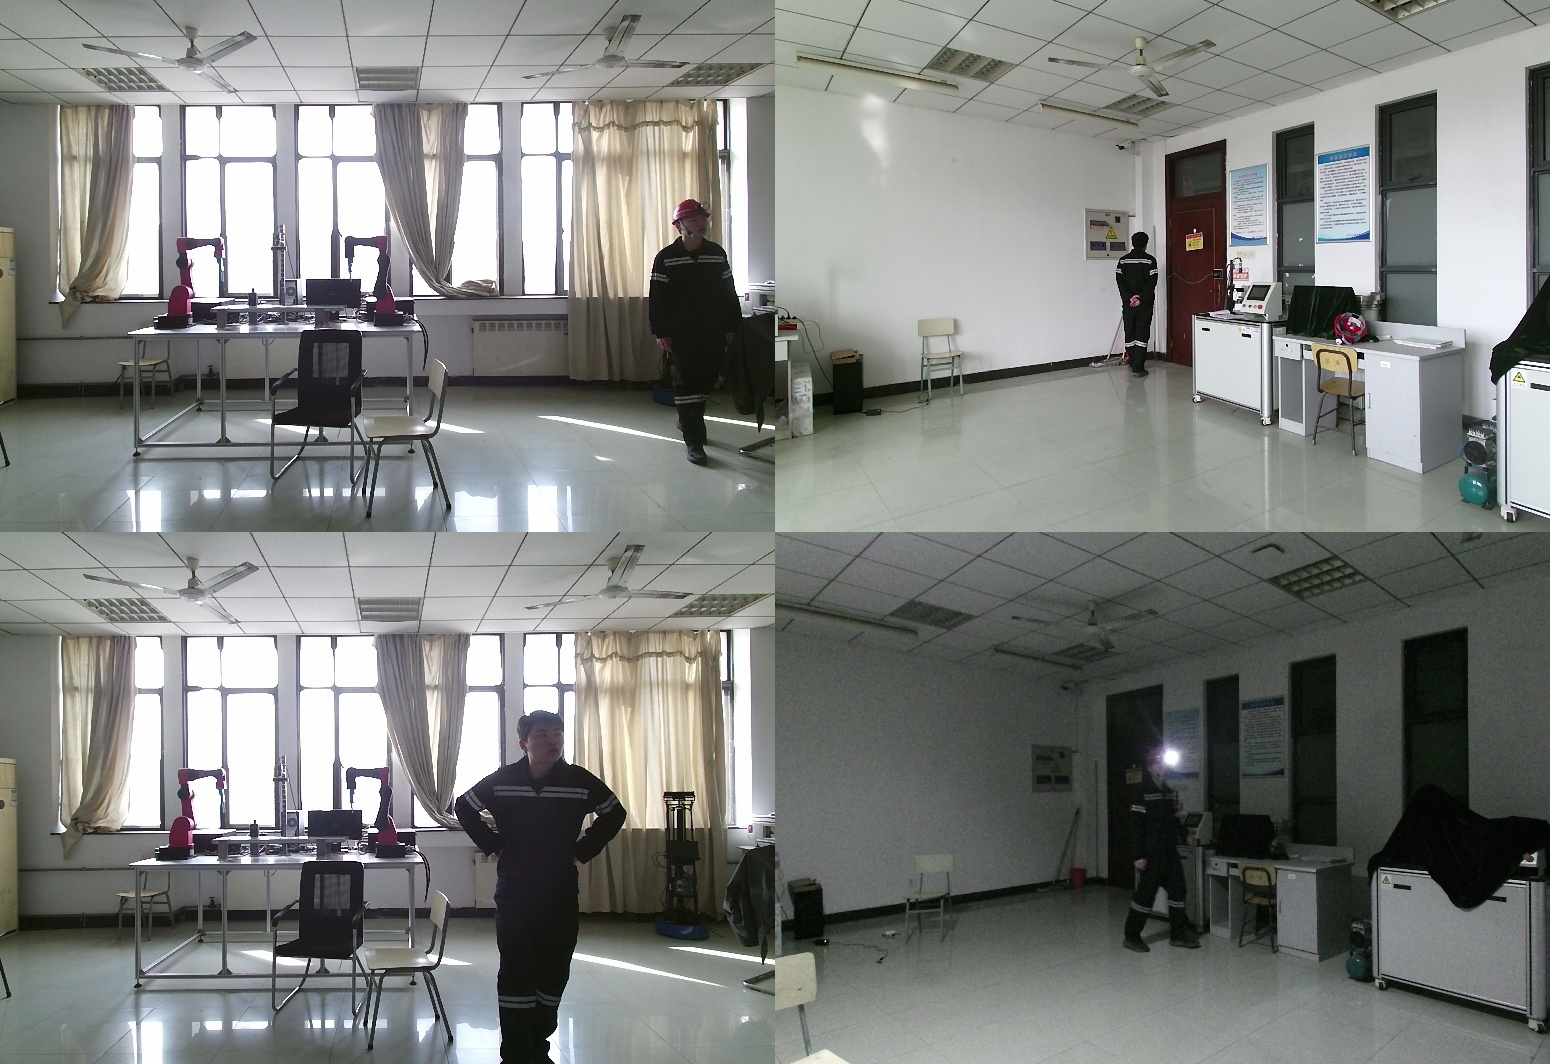person: (459, 715, 639, 1063), (648, 198, 742, 463), (1136, 745, 1208, 963), (1115, 233, 1165, 381)
